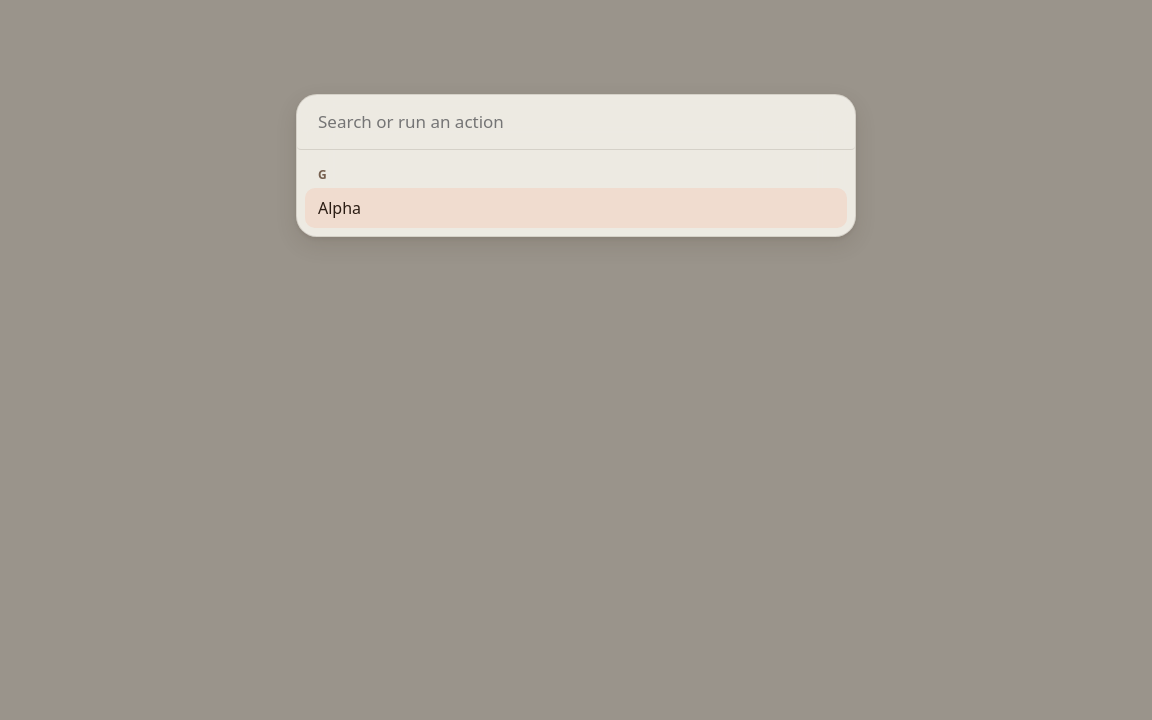
Test case: CommandPalette › says so when nothing matches
The image size is (1152, 720).
Type "zzzz" into the dropdown with placeholder "Search or run an action". click: (576, 122)
box: [297, 95, 855, 150]
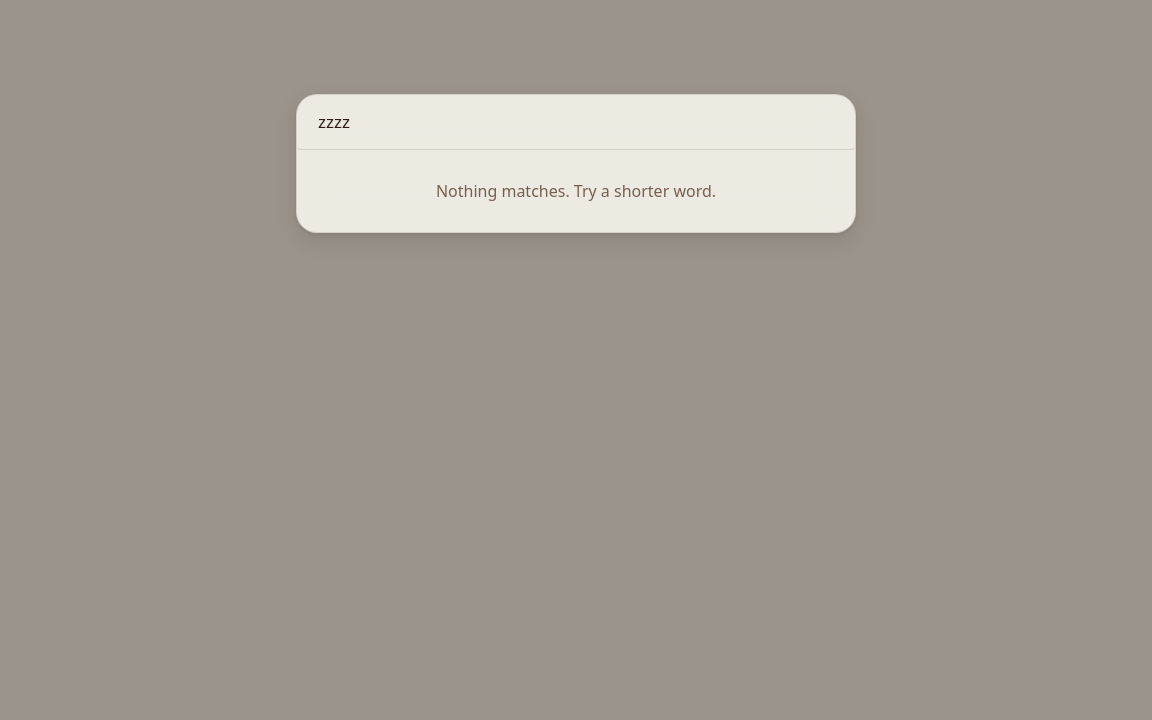
Now the text "Nothing matches. Try a shorter word." is shown, box [436, 180, 716, 202]
